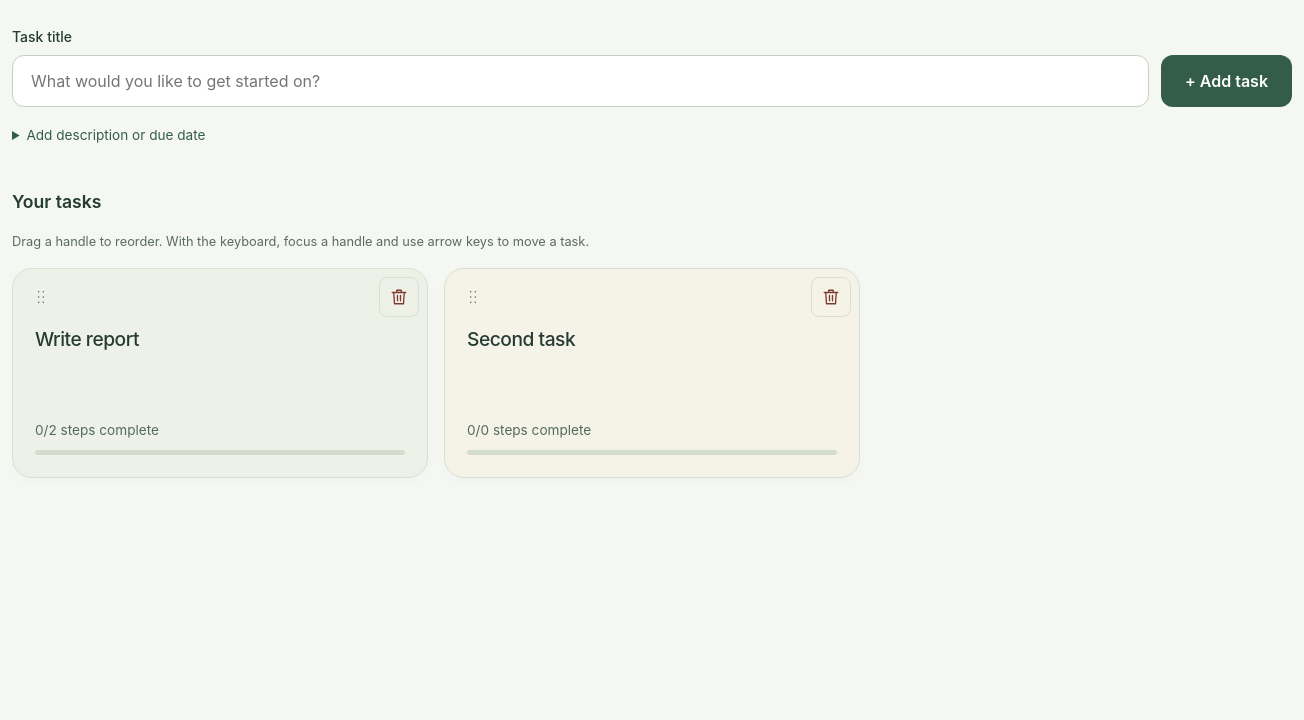
Test case: pointer handle drop saves ordering; a failed save keeps the previous order
Press the mouse on the button named "Reorder Write report" at (41, 298), box left=21, top=278, right=61, bottom=318
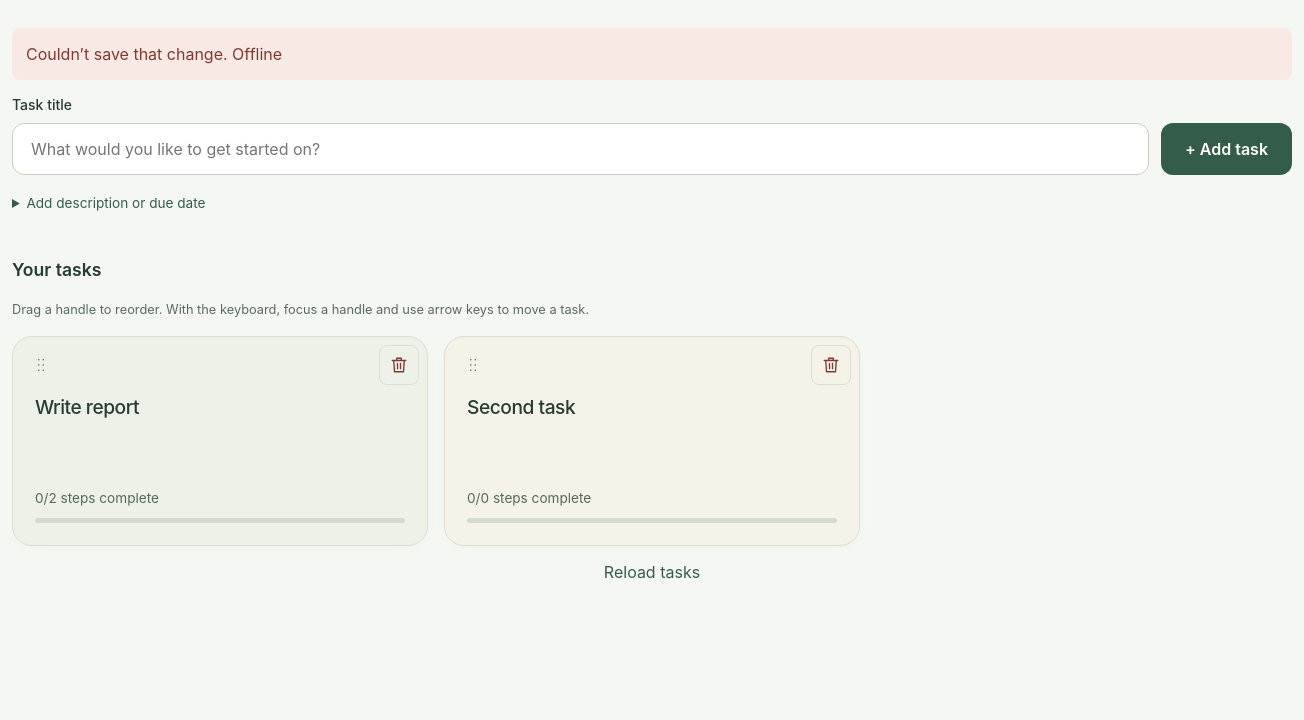
Expected: the message shows "Offline", left=26, top=44, right=282, bottom=64
